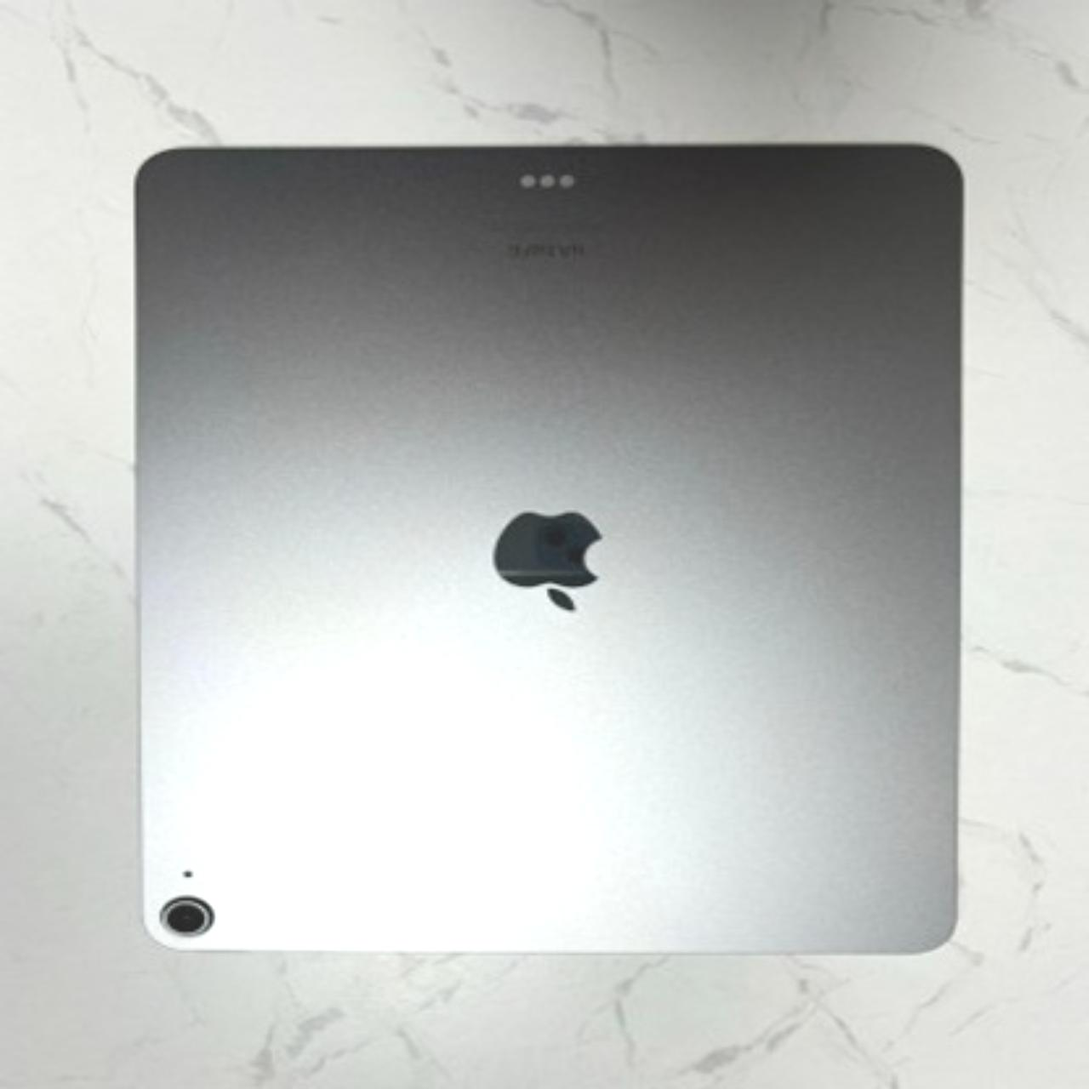Tablet_PC: (120, 126, 974, 966)
